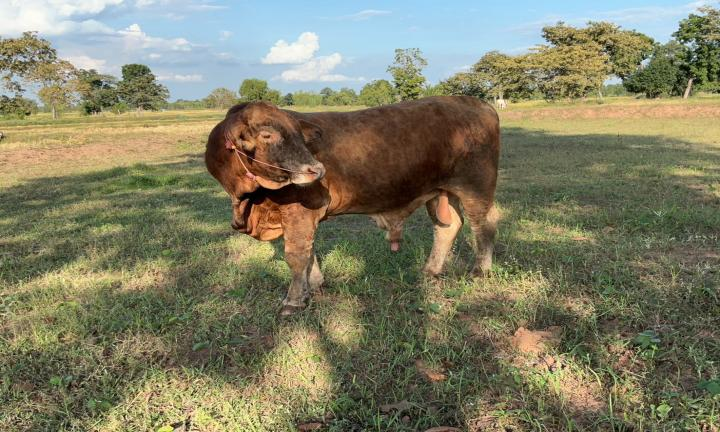Charolais: (206, 96, 500, 314)
